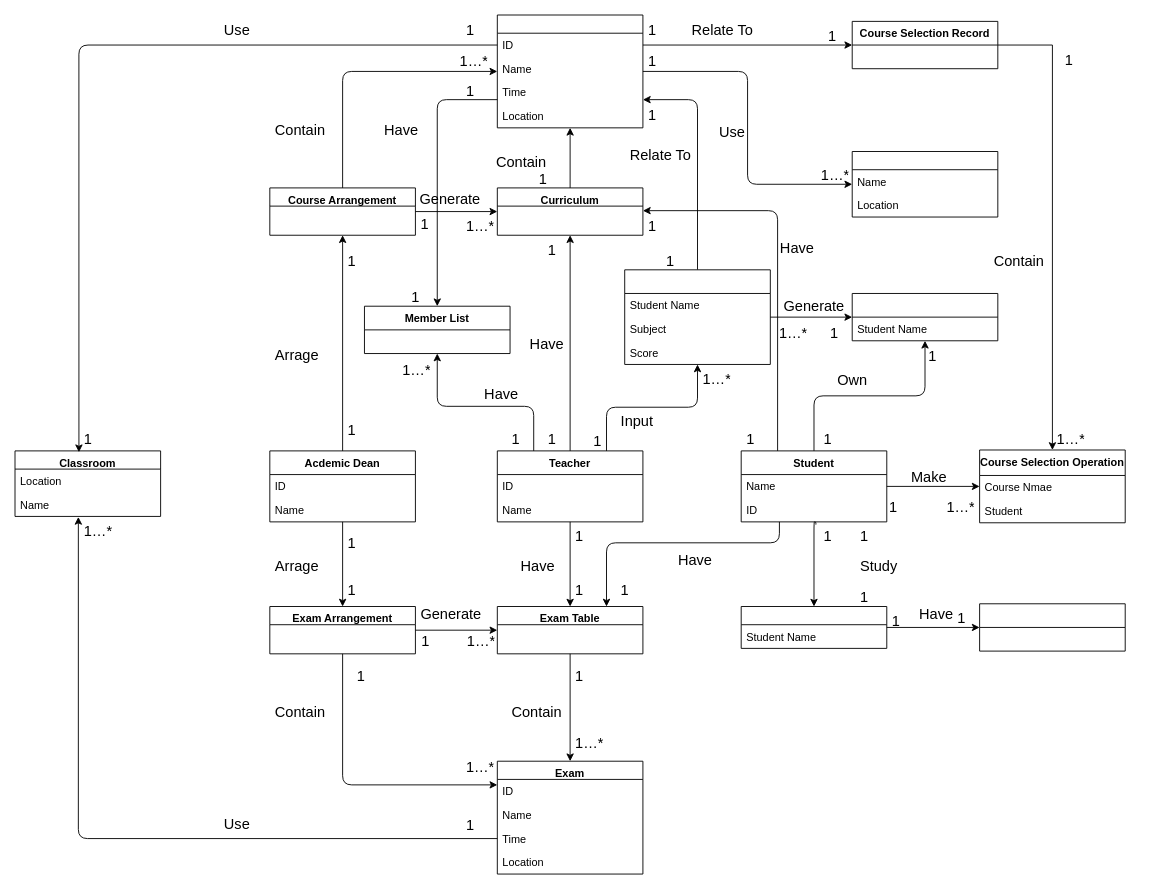
Image size: 1149x889. Some labels were removed from this diagram. The box of each missing label's shape, as (x1, y1, x2, y2) in pixels:
Course: (496, 14, 643, 128)
Education Program: (979, 603, 1125, 651)
Lab: (851, 151, 998, 217)
Report Cart: (851, 293, 998, 341)
Score Record: (624, 269, 770, 364)
University Major: (740, 606, 887, 648)
